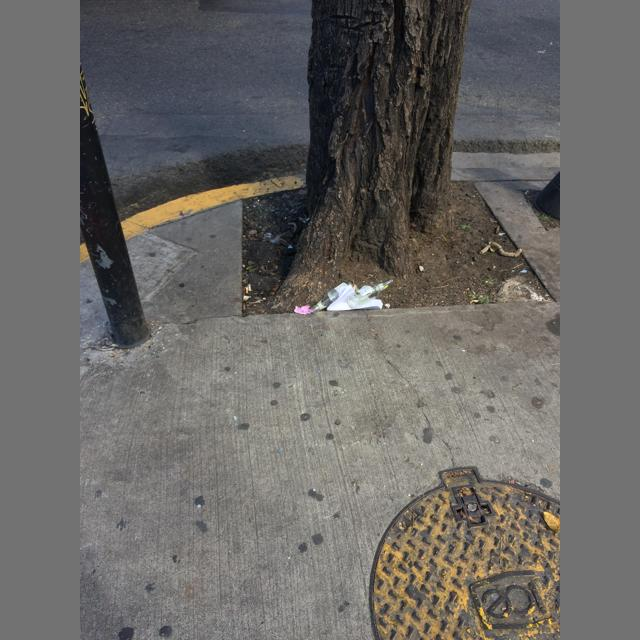litter: (346, 277, 394, 309), (311, 279, 354, 313), (327, 286, 383, 311), (245, 287, 248, 294), (248, 284, 251, 291)
